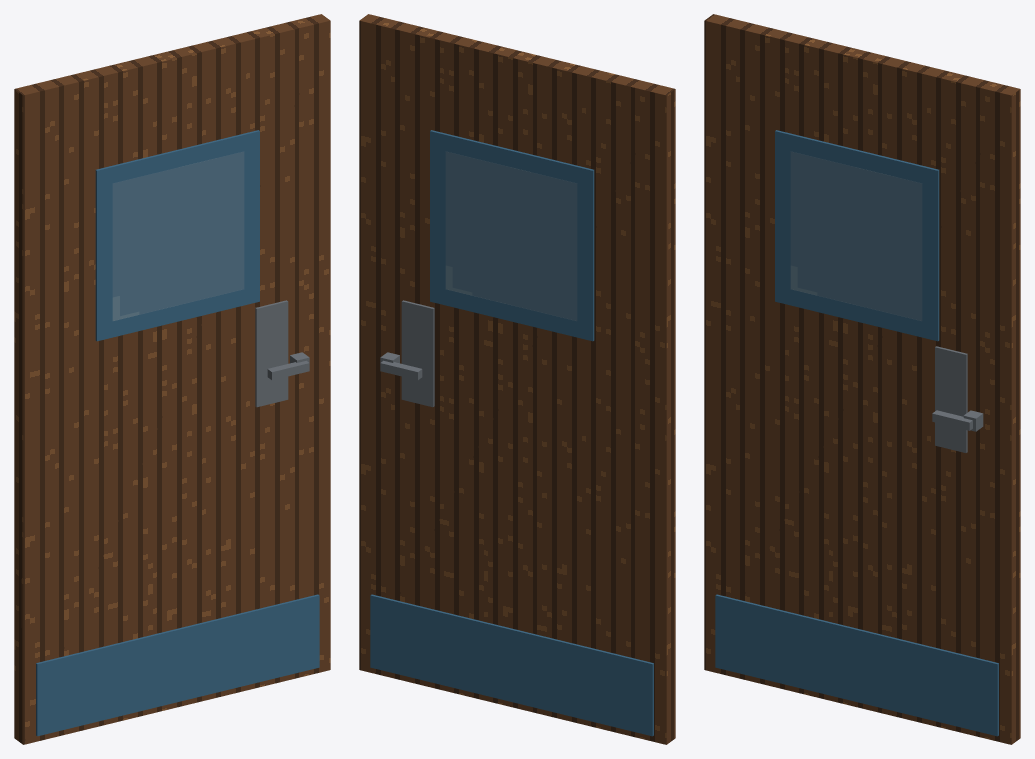
The model's file is door_school.glb.
3 views of the same model, side by side, from view 1: azimuth 30°, elevation 25°; view 2: azimuth 150°, elevation 25°; view 3: azimuth 330°, elevation 25° (orthographic).
Visible parts, largest first — view 1: door_school; view 2: door_school; view 3: door_school.
Part boxes in pixels (x1,y1,x2,y2): door_school: [14, 14, 330, 744]; door_school: [359, 14, 675, 744]; door_school: [704, 14, 1020, 744].
Size of the model in its own units: 0.98 by 1.98 by 0.165.
4 materials, 4 textured.
